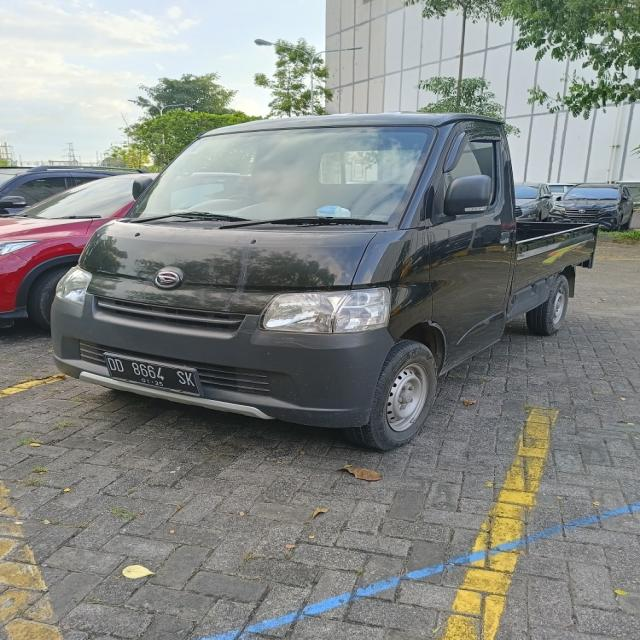plates: (100, 351, 211, 402)
